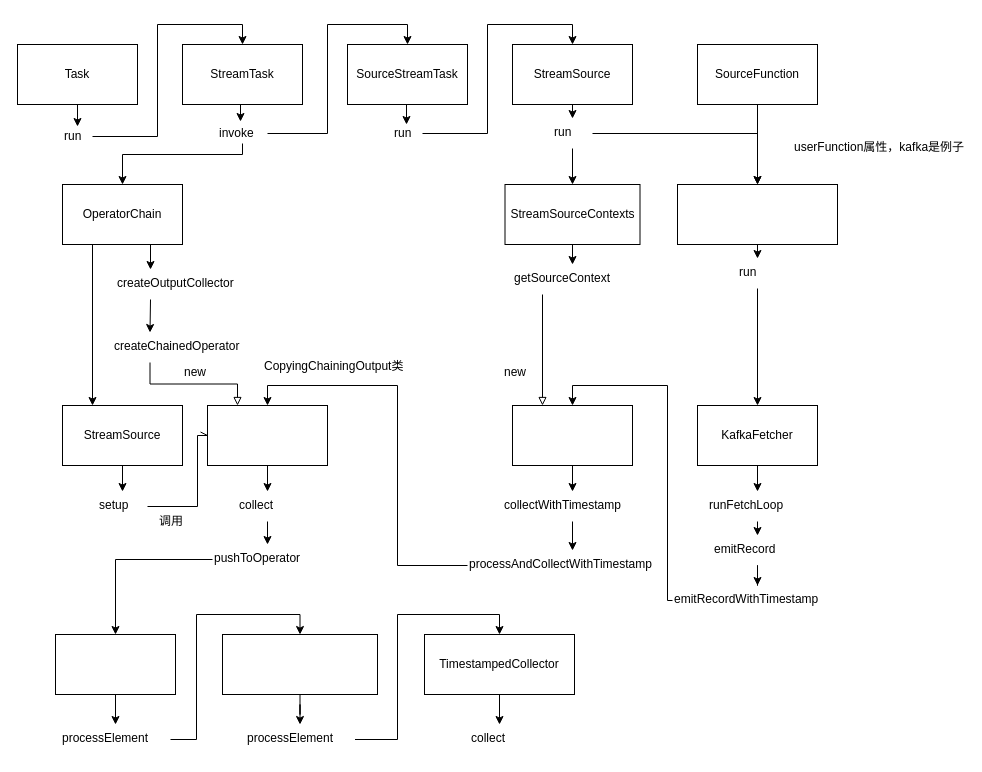
The diagram is 982 pixels wide and 772 high, and some of its shapes have lost their labels. The shapes that lost their labels are listed below. From the top down, each one's centre as x and y in pixels, then its label:
At (x=757, y=214): "FlinkKafkaConsumerBase".
At (x=267, y=435): "Output".
At (x=572, y=435): "SourceContext".
At (x=115, y=664): "ProcessOperator".
At (x=300, y=664): "RowtimeProcessFunction".
